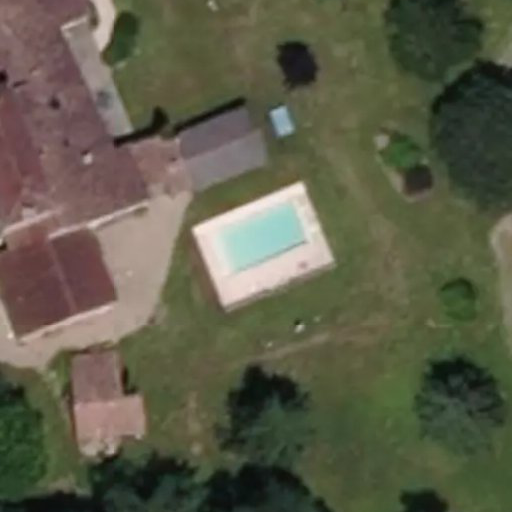pool: (198, 227, 313, 256)
